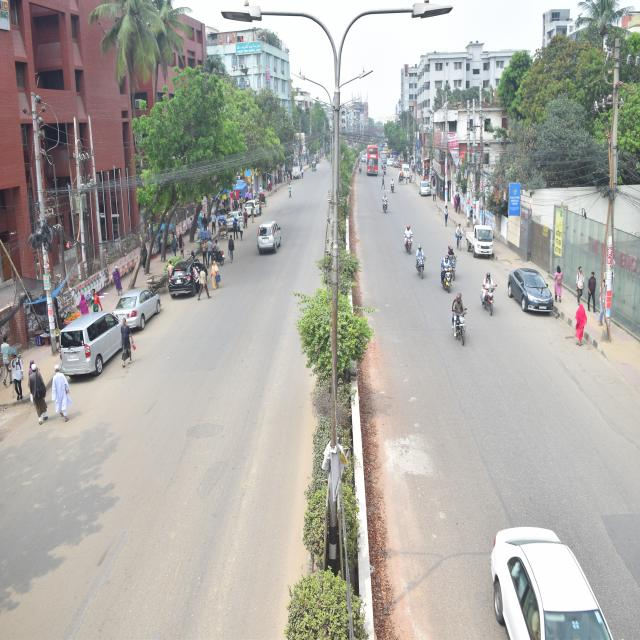bus: (366, 143, 383, 184)
car: (482, 506, 625, 640), (47, 298, 150, 378), (109, 271, 177, 341), (163, 242, 223, 311), (506, 252, 561, 327), (253, 216, 294, 282), (209, 186, 251, 247), (420, 172, 443, 211), (242, 189, 262, 225)
motorbike: (449, 285, 473, 366), (438, 228, 458, 286), (480, 269, 501, 321), (438, 252, 454, 300), (402, 213, 417, 264), (414, 242, 427, 285), (379, 188, 392, 225), (388, 174, 398, 212)
pickup-van: (466, 219, 498, 260), (290, 156, 309, 189), (402, 165, 414, 182)
